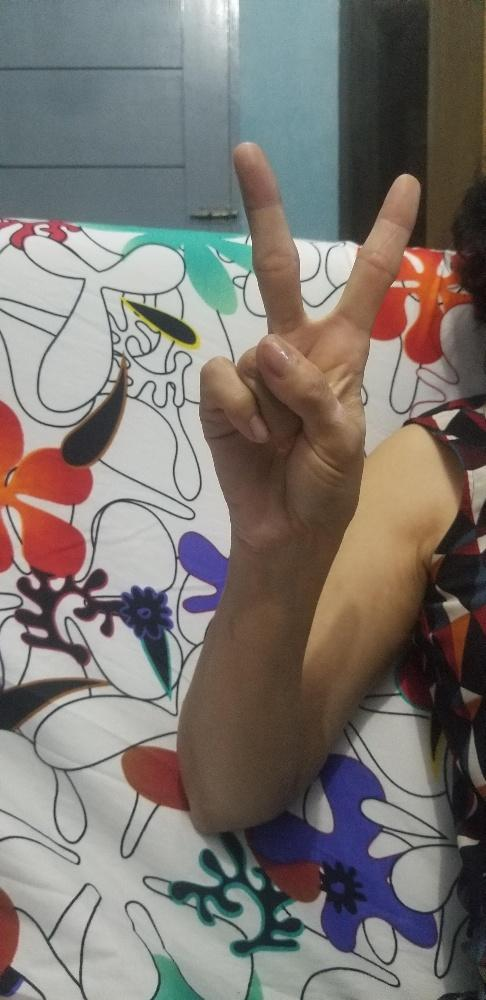v: (196, 138, 422, 550)
